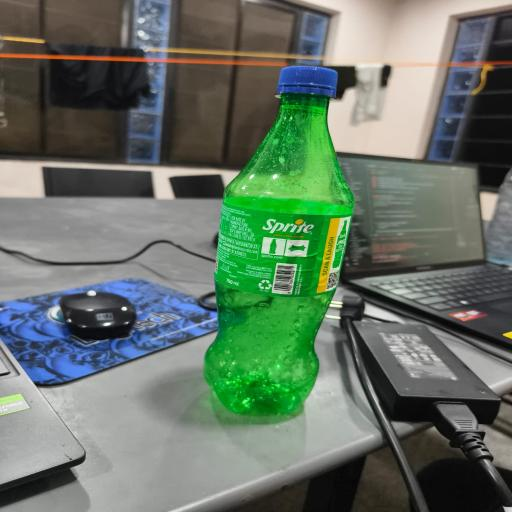Sprite: (204, 66, 354, 414)
